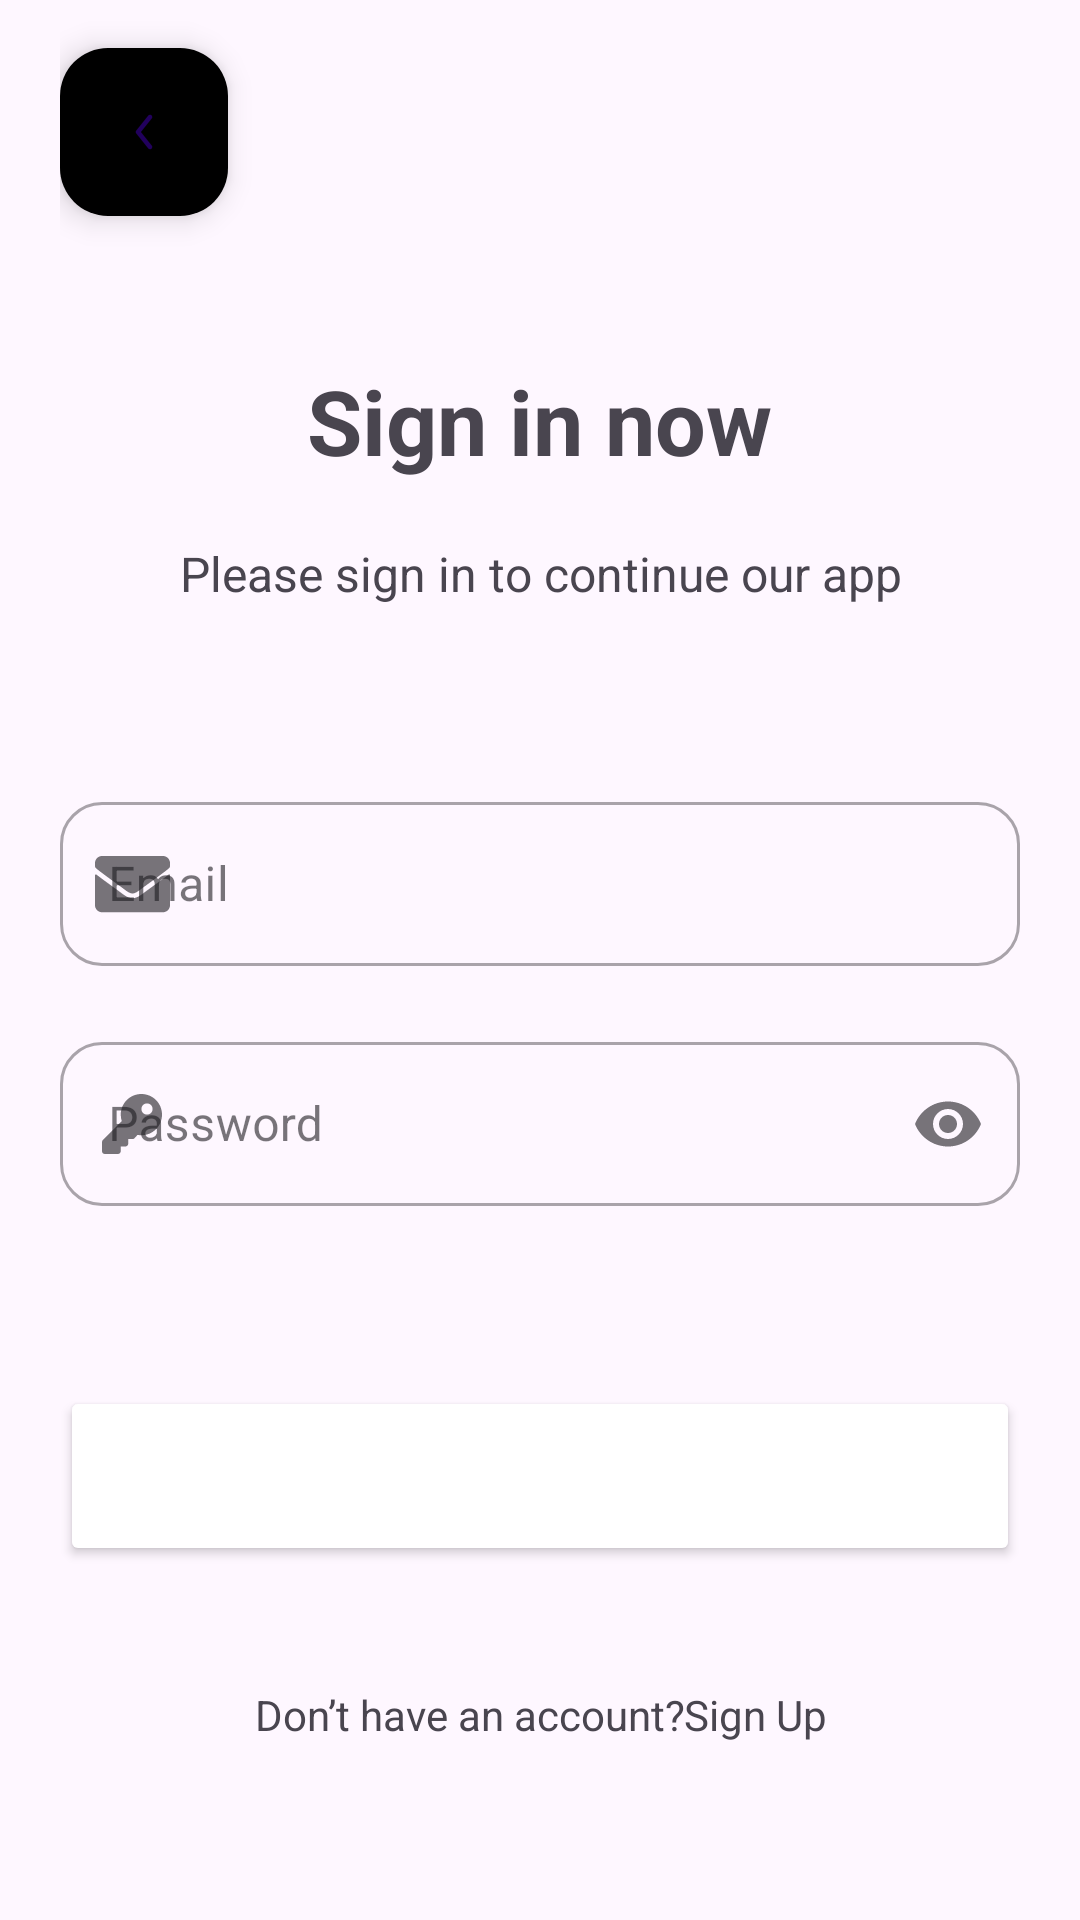

Where to tap for icons on this 1080w x 1920h app screen, as (x,y):
back arrow: (144,132)
